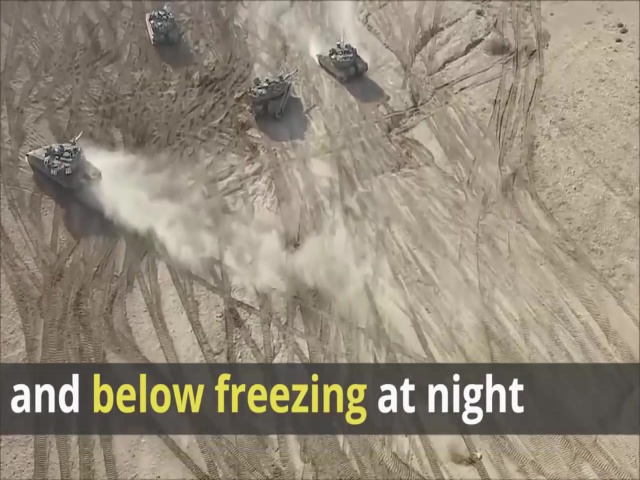vehicle: (25, 137, 104, 197), (246, 74, 294, 121), (315, 42, 368, 82), (144, 8, 181, 46)
